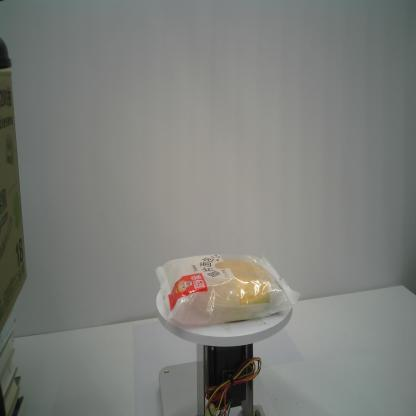Dessert: (155, 252, 300, 331)
